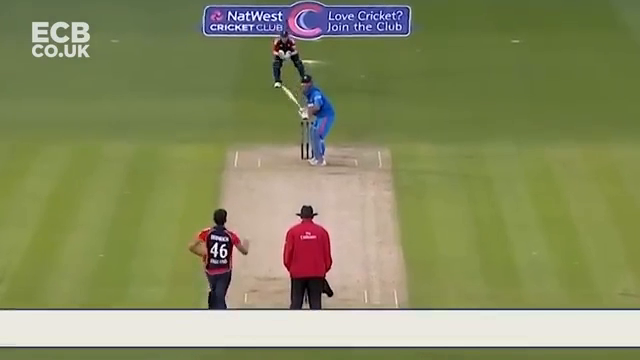Bowler: (190, 210, 249, 307)
Keeper: (271, 29, 301, 88)
Umpire: (283, 205, 335, 310)
batsman: (296, 75, 335, 165)
